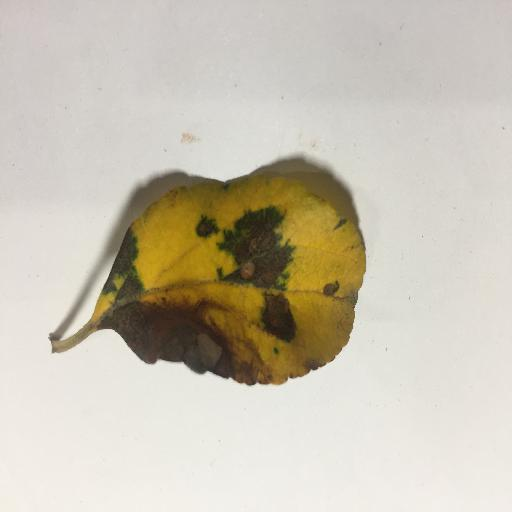Brown_Spot: (116, 322, 241, 372), (214, 228, 290, 284), (261, 292, 292, 338), (198, 220, 216, 237), (320, 281, 339, 295)
